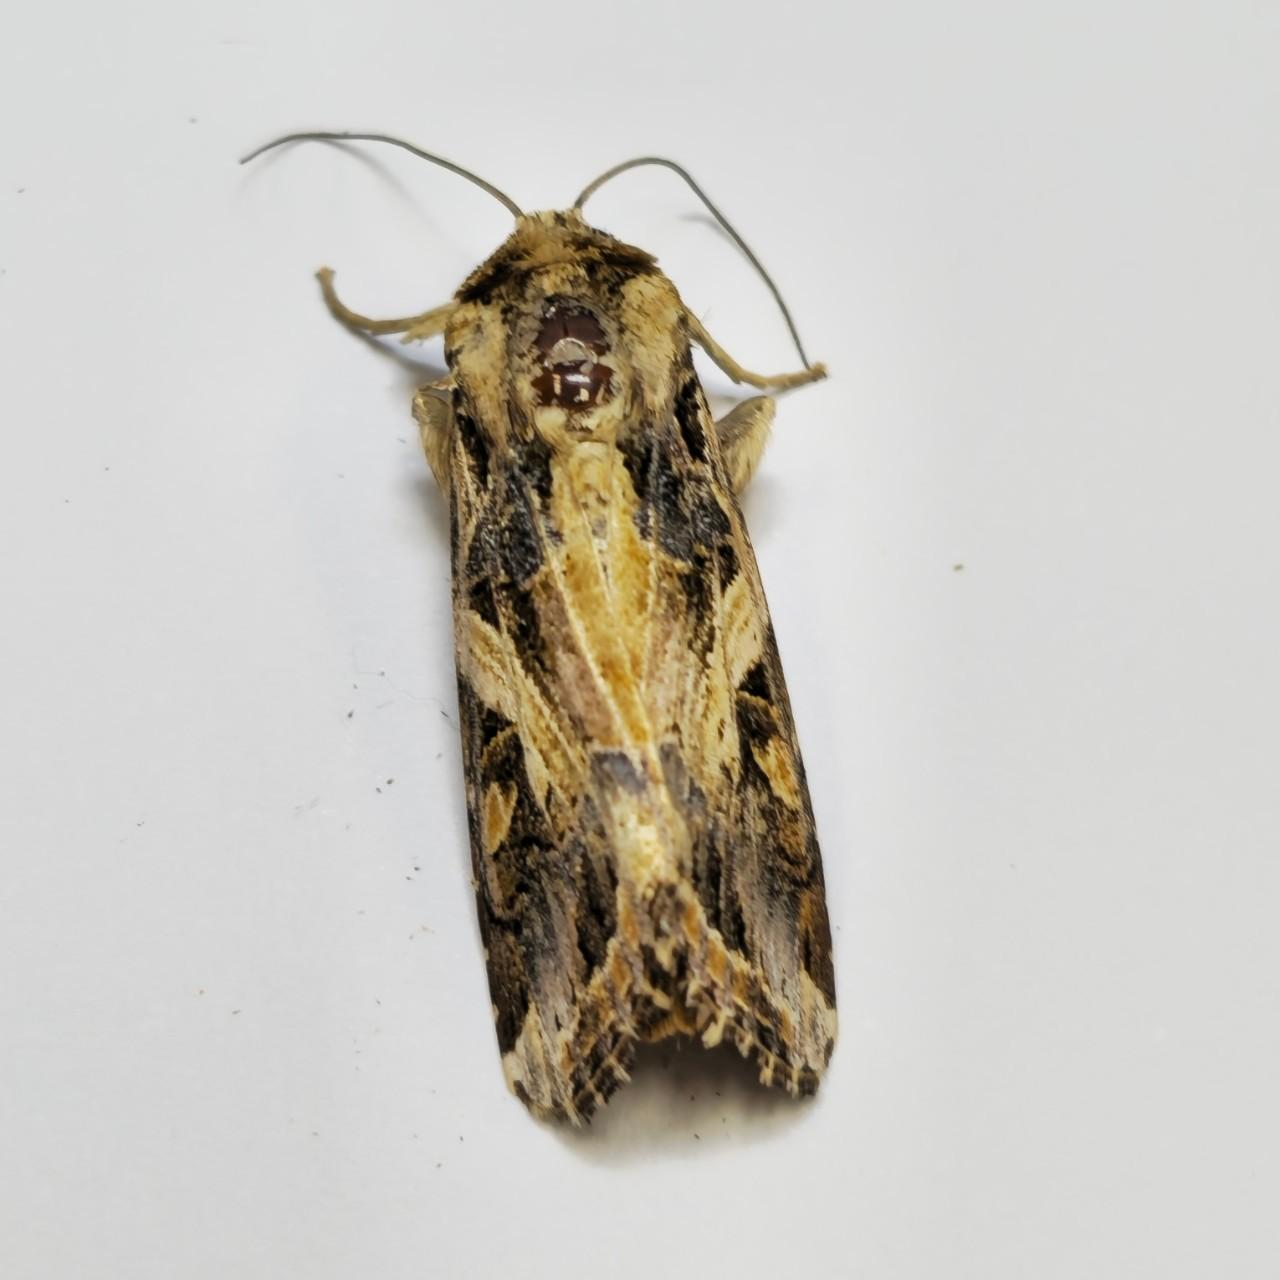Spodoptera litura: (237, 128, 840, 1133)
